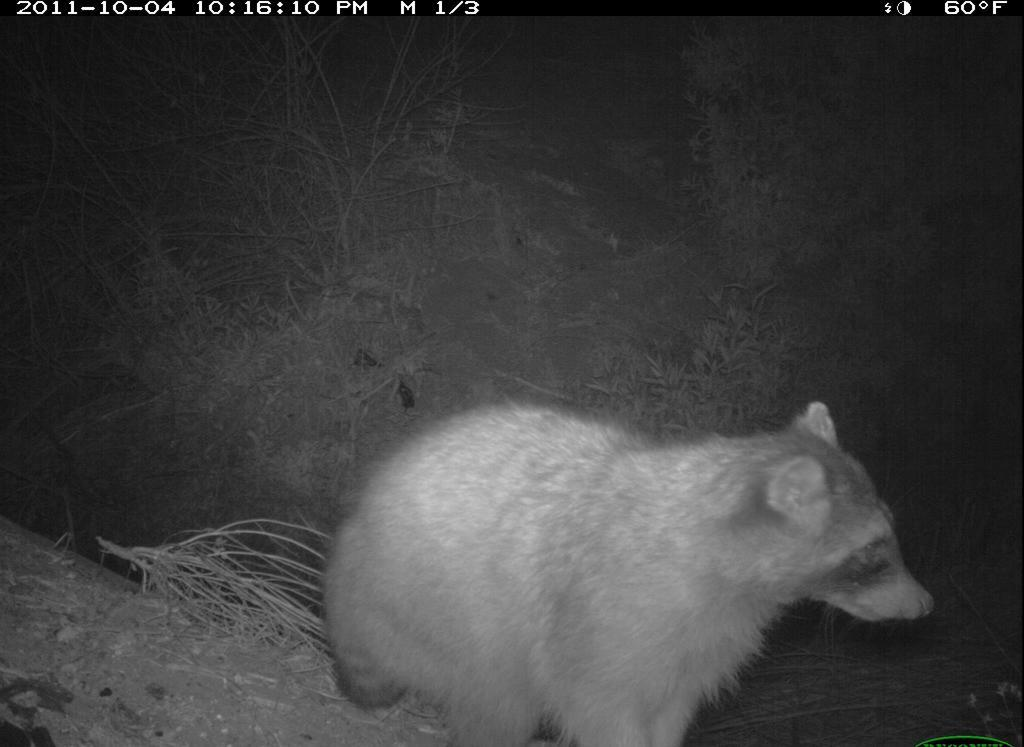raccoon: (303, 377, 939, 744)
